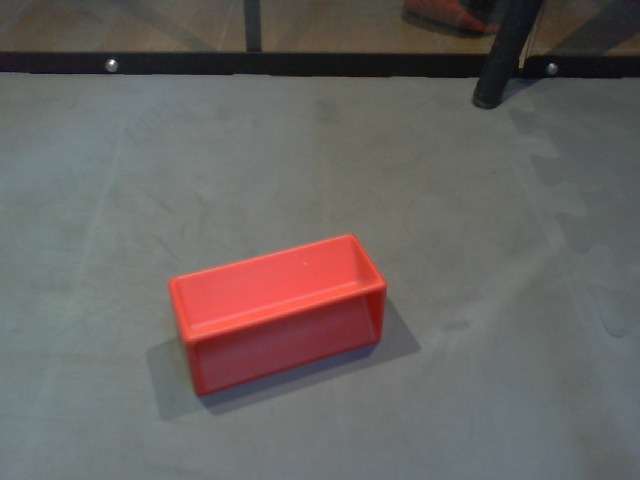RedSample: (166, 231, 389, 398)
